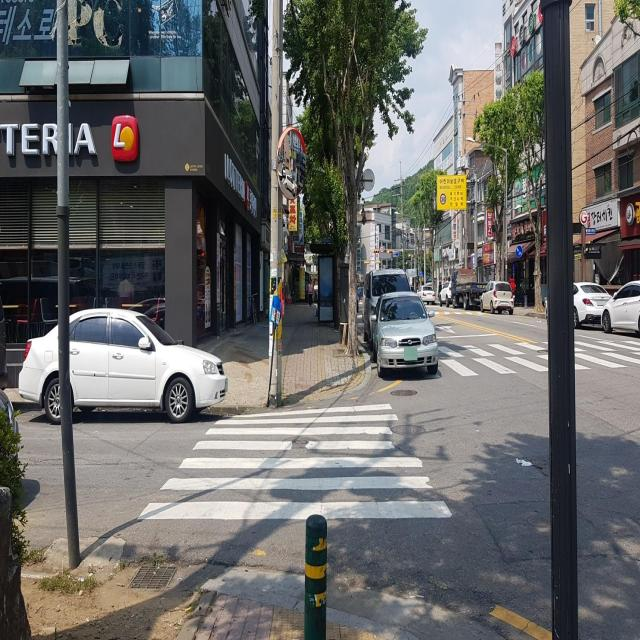횡단보도: (135, 401, 454, 523), (439, 328, 640, 372)
